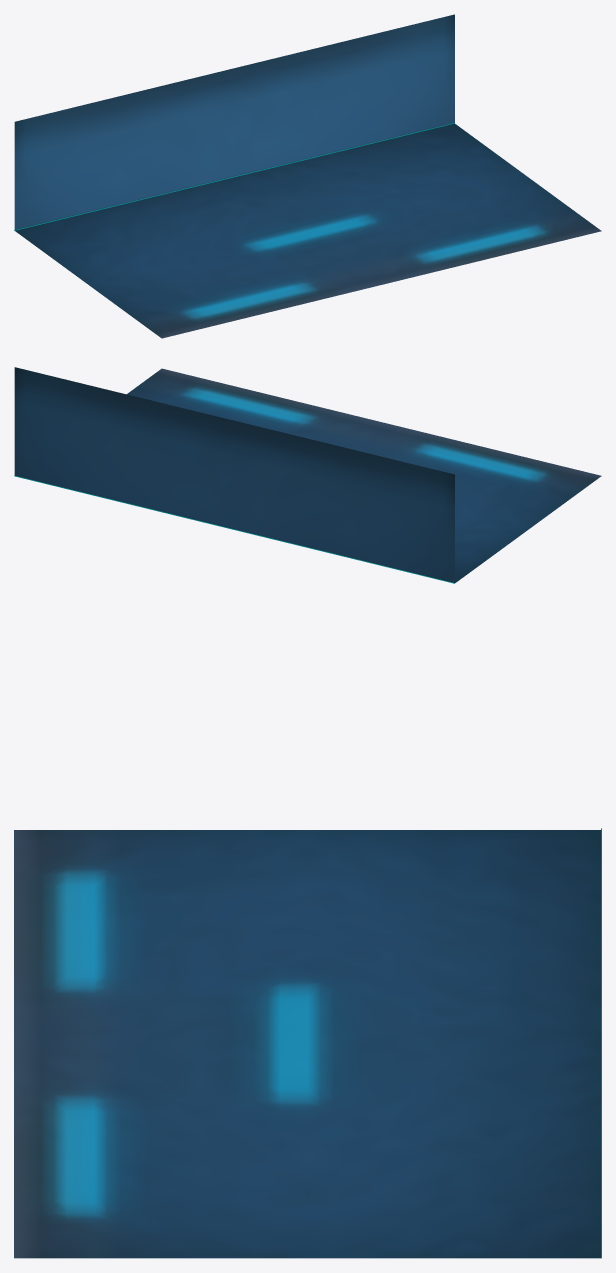
Rendered from Double-floor.fbx.
3 views of the same model, one above another, from view 1: azimuth 30°, elevation 25°; view 2: azimuth 150°, elevation 25°; view 3: azimuth 270°, elevation 25° (orthographic). The views are drawn at different scales.
Visible parts, largest first — view 1: Room.035; view 2: Room.035; view 3: Room.035.
Boxes of the visible parts, x1,y1,x2,y2 form: Room.035: (14,14,601,338); Room.035: (14,367,601,583); Room.035: (14,828,601,1258).
Bounding box in the file's own units: 3808 × 900 × 2204.
